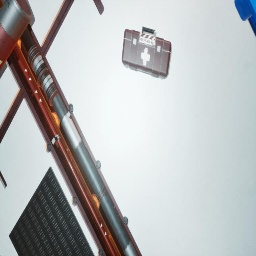FirstAidBox ,: (122, 26, 172, 80)
NitrogenTank ,: (0, 0, 32, 71)
